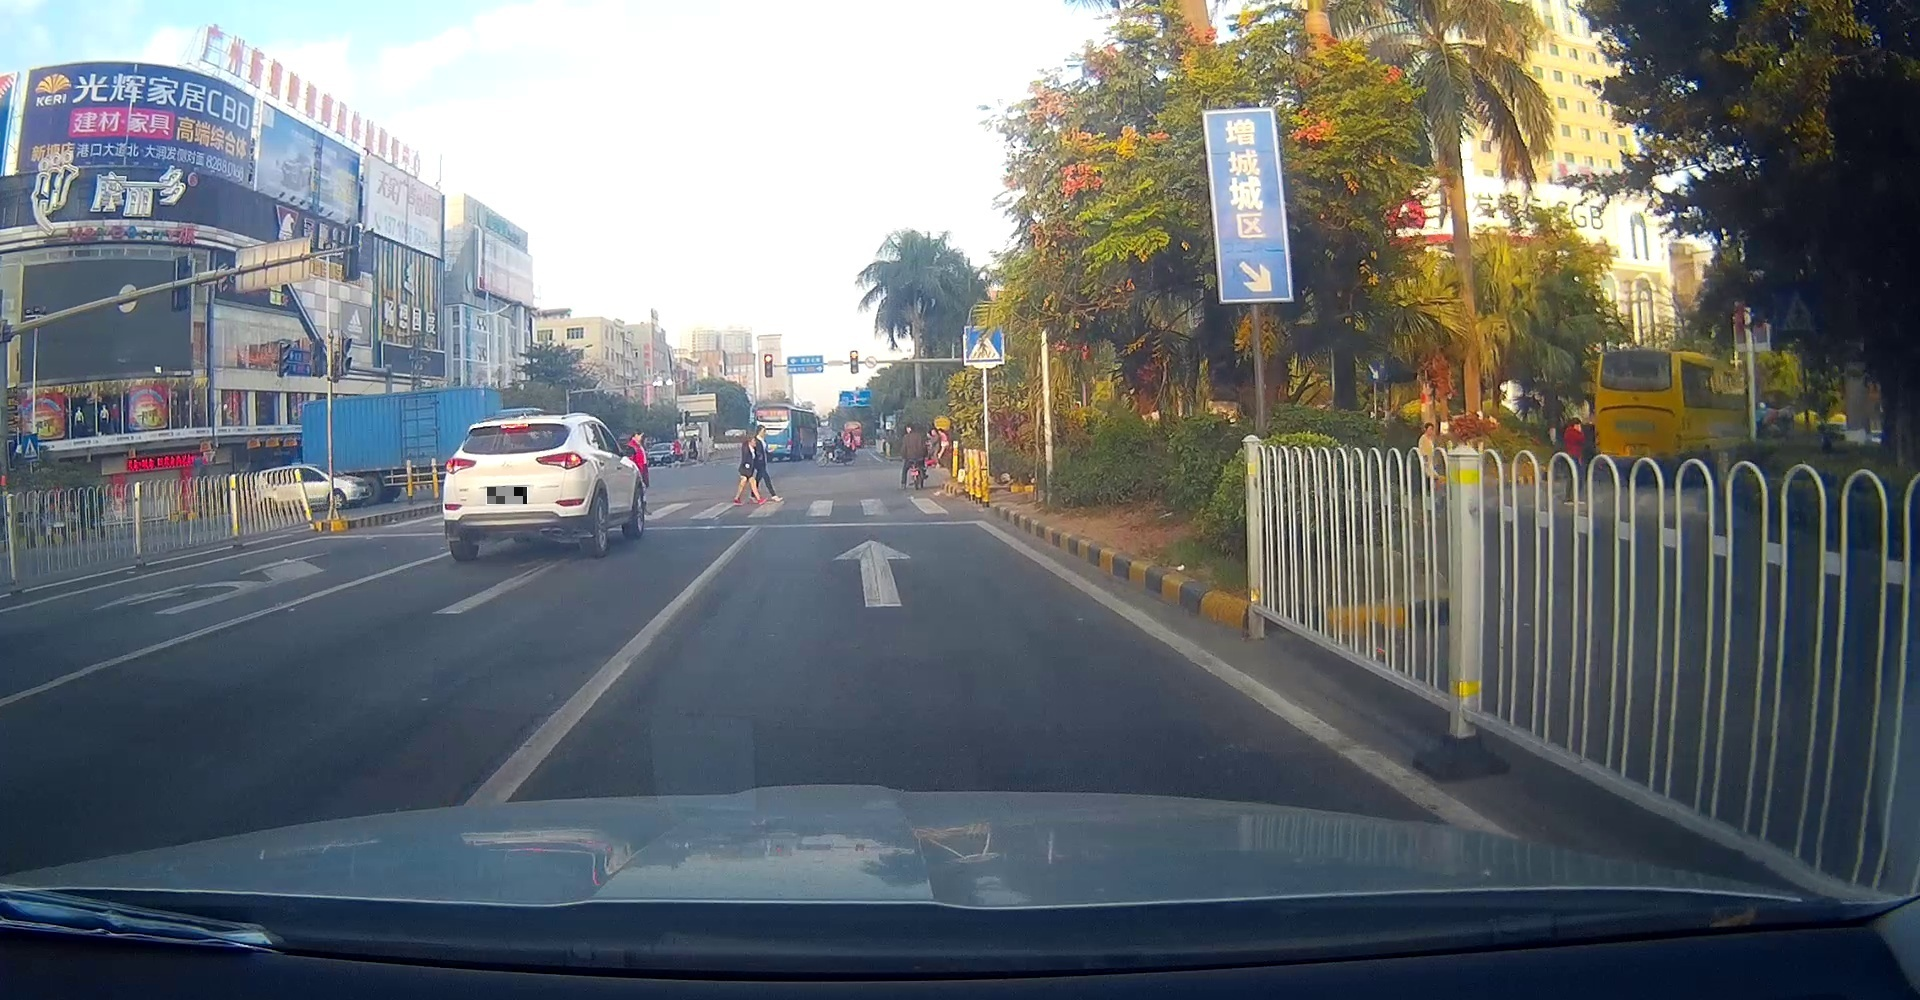L_light: (444, 457, 477, 475)
R_light: (536, 451, 585, 470)
T_light: (499, 423, 530, 431)
day-brake: (442, 412, 599, 561)
plate_1: (488, 487, 527, 504)
